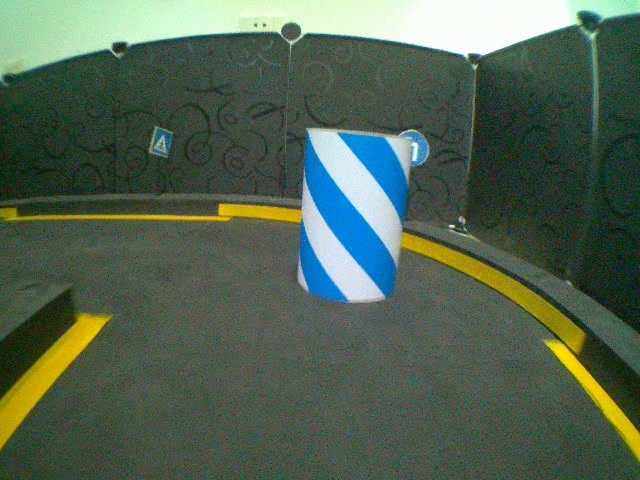bucket: (297, 125, 414, 304)
